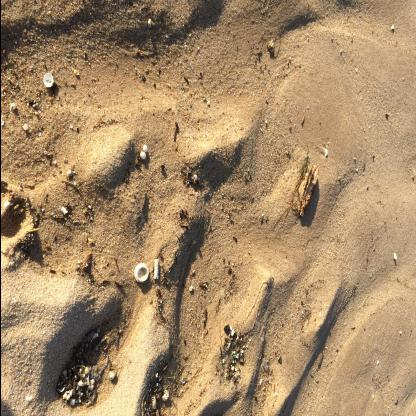plastik: (133, 262, 149, 284), (42, 72, 53, 89)
